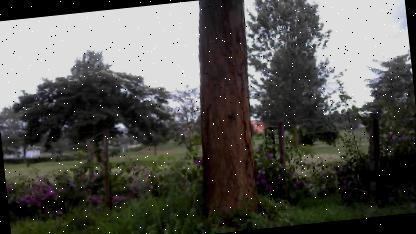tree: (173, 0, 278, 226)
